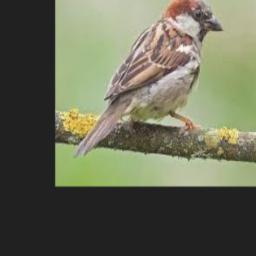Sparrow: (74, 0, 224, 157)
